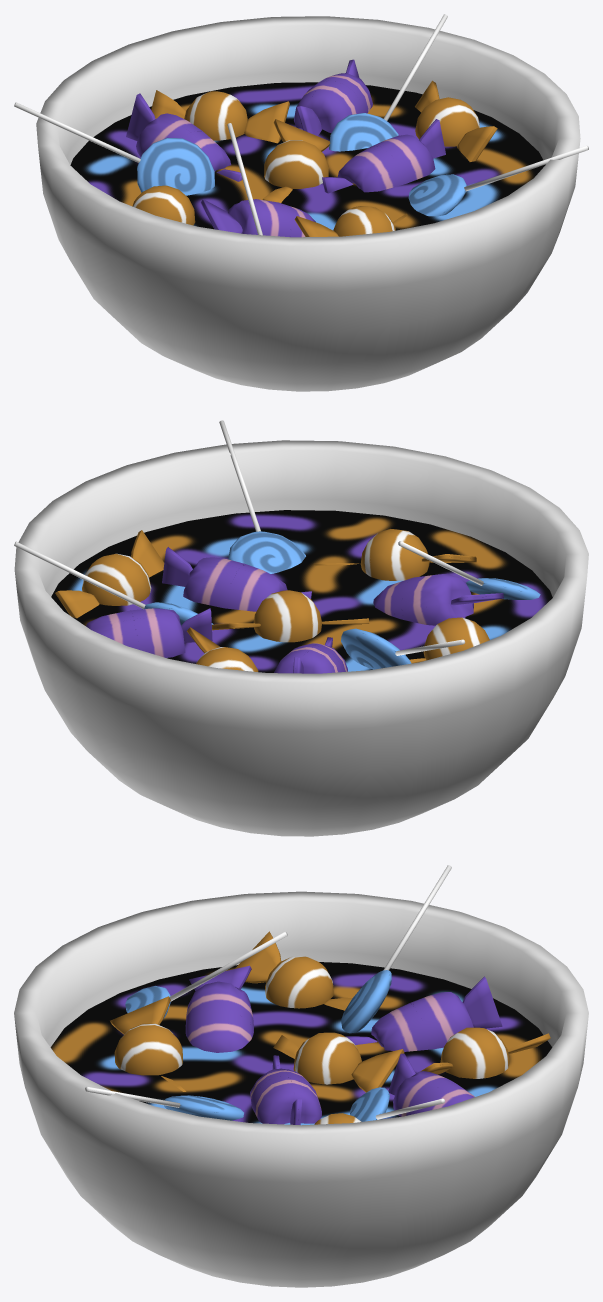
The model's file is Candy_Bowl.fbx.
3 renders of one model, top to bottom at view 1: azimuth 30°, elevation 25°; view 2: azimuth 150°, elevation 25°; view 3: azimuth 270°, elevation 25°, orthographic. The views are drawn at different scales.
Parts seen in each view (by area): view 1: Bowl, Cylinder, Candy 2.004, Candy 3.002, Candy 1.001, Candy 1.005, Candy 2.001, Candy 1.003, Candy 2.003, Candy 2.002, Candy 3.003, Candy 3.001 (+3 smaller); view 2: Bowl, Cylinder, Candy 2.004, Candy 1.003, Candy 2.002, Candy 2.001, Candy 1.005, Candy 1.002, Candy 3.001, Candy 3.002, Candy 2.003, Candy 1.004 (+3 smaller); view 3: Bowl, Cylinder, Candy 2.003, Candy 2.002, Candy 1.005, Candy 1.004, Candy 1.002, Candy 1.001, Candy 2.004, Candy 2.001, Candy 3.002, Candy 3.001 (+2 smaller).
Part boxes in pixels (left/top/right/bottom): Bowl: left=36, top=16, right=580, bottom=391; Cylinder: left=70, top=82, right=545, bottom=230; Candy 2.004: left=322, top=119, right=445, bottom=193; Candy 3.002: left=14, top=102, right=214, bottom=195; Candy 1.001: left=151, top=90, right=289, bottom=143; Candy 1.005: left=262, top=119, right=330, bottom=202; Candy 2.001: left=294, top=59, right=372, bottom=135; Candy 1.003: left=415, top=80, right=497, bottom=161; Candy 2.003: left=126, top=93, right=242, bottom=181; Candy 2.002: left=200, top=199, right=315, bottom=237; Candy 3.003: left=329, top=14, right=447, bottom=151; Candy 3.001: left=408, top=145, right=588, bottom=216; Bowl: left=14, top=440, right=588, bottom=836; Cylinder: left=51, top=510, right=552, bottom=672; Candy 2.004: left=162, top=547, right=311, bottom=611; Candy 1.003: left=55, top=530, right=164, bottom=618; Candy 2.002: left=373, top=573, right=504, bottom=625; Candy 2.001: left=86, top=608, right=212, bottom=657; Candy 1.005: left=212, top=590, right=369, bottom=642; Candy 1.002: left=313, top=529, right=476, bottom=580; Candy 3.001: left=219, top=420, right=305, bottom=573; Candy 3.002: left=341, top=628, right=465, bottom=669; Candy 2.003: left=274, top=637, right=347, bottom=673; Candy 1.004: left=409, top=617, right=489, bottom=663; Bowl: left=14, top=891, right=588, bottom=1287; Cylinder: left=50, top=962, right=552, bottom=1125; Candy 2.003: left=345, top=976, right=502, bottom=1051; Candy 2.002: left=185, top=965, right=253, bottom=1052; Candy 1.005: left=273, top=1032, right=404, bottom=1092; Candy 1.004: left=235, top=931, right=351, bottom=1010; Candy 1.002: left=110, top=996, right=186, bottom=1091; Candy 1.001: left=420, top=1027, right=550, bottom=1078; Candy 2.004: left=250, top=1055, right=321, bottom=1124; Candy 2.001: left=388, top=1053, right=474, bottom=1116; Candy 3.002: left=341, top=865, right=451, bottom=1033; Candy 3.001: left=85, top=1086, right=243, bottom=1120.
Bounding box in the file's own units: 32.56 × 17.07 × 32.56.
